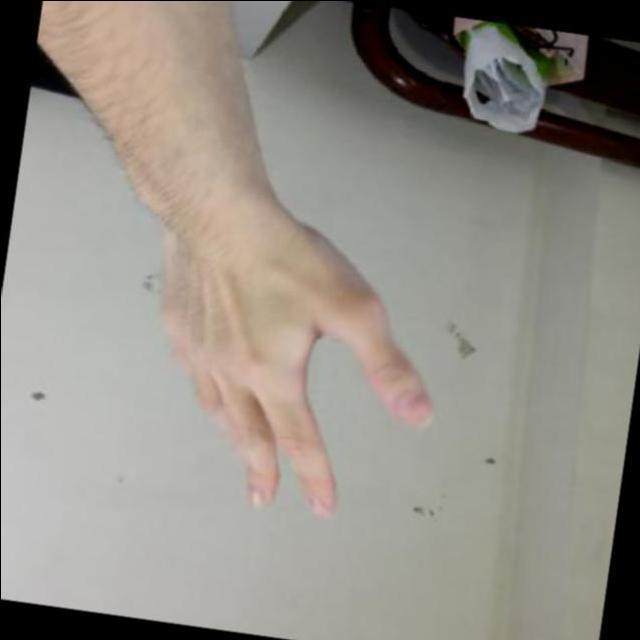hand: (102, 158, 470, 546)
